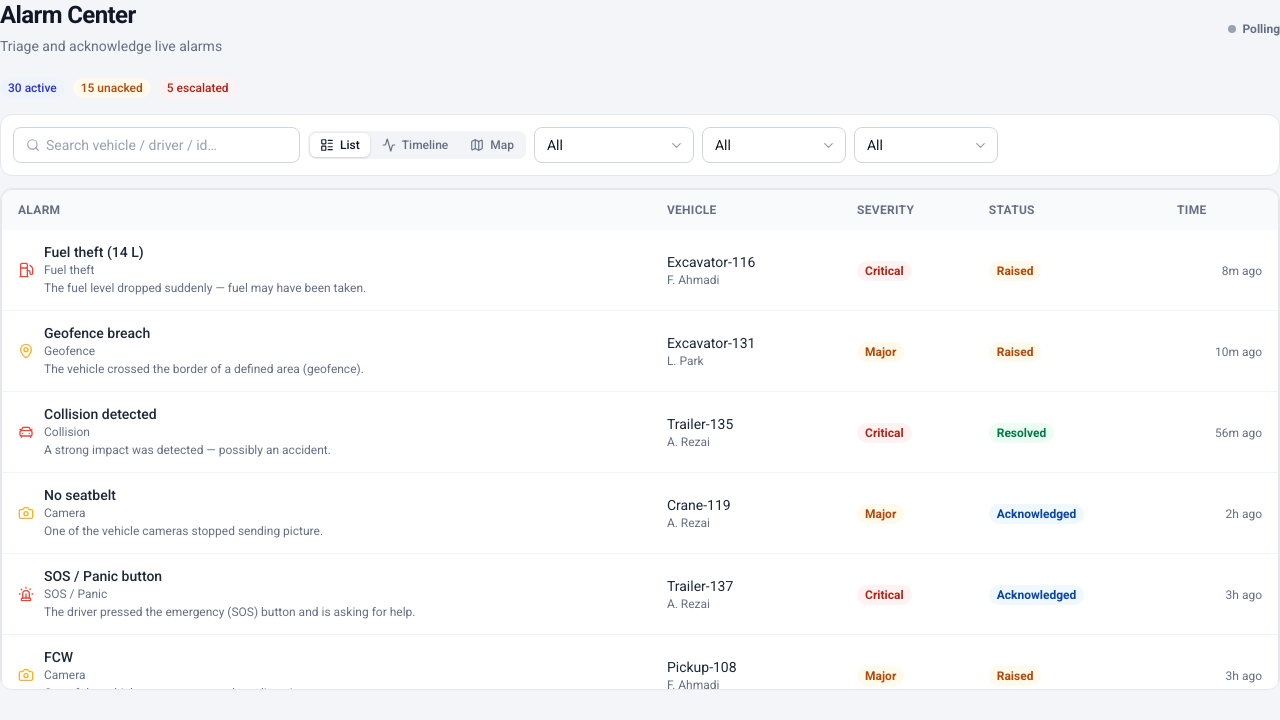
AlarmCenterPage › opens the detail drawer when an alarm row is clicked
The width and height of the screenshot is (1280, 720).
Click the text "Excavator-116": (711, 262) [667, 254, 755, 270]
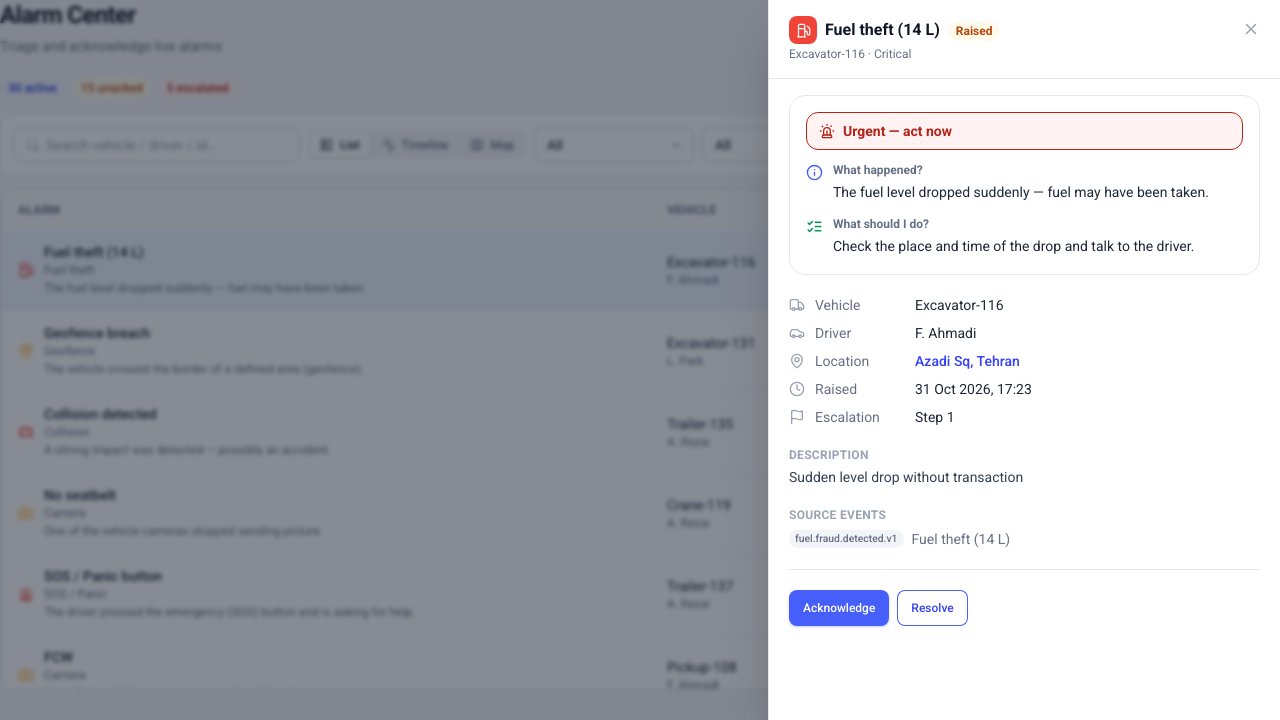
expect the text "Vehicle" is shown: met, box [815, 297, 860, 313]
